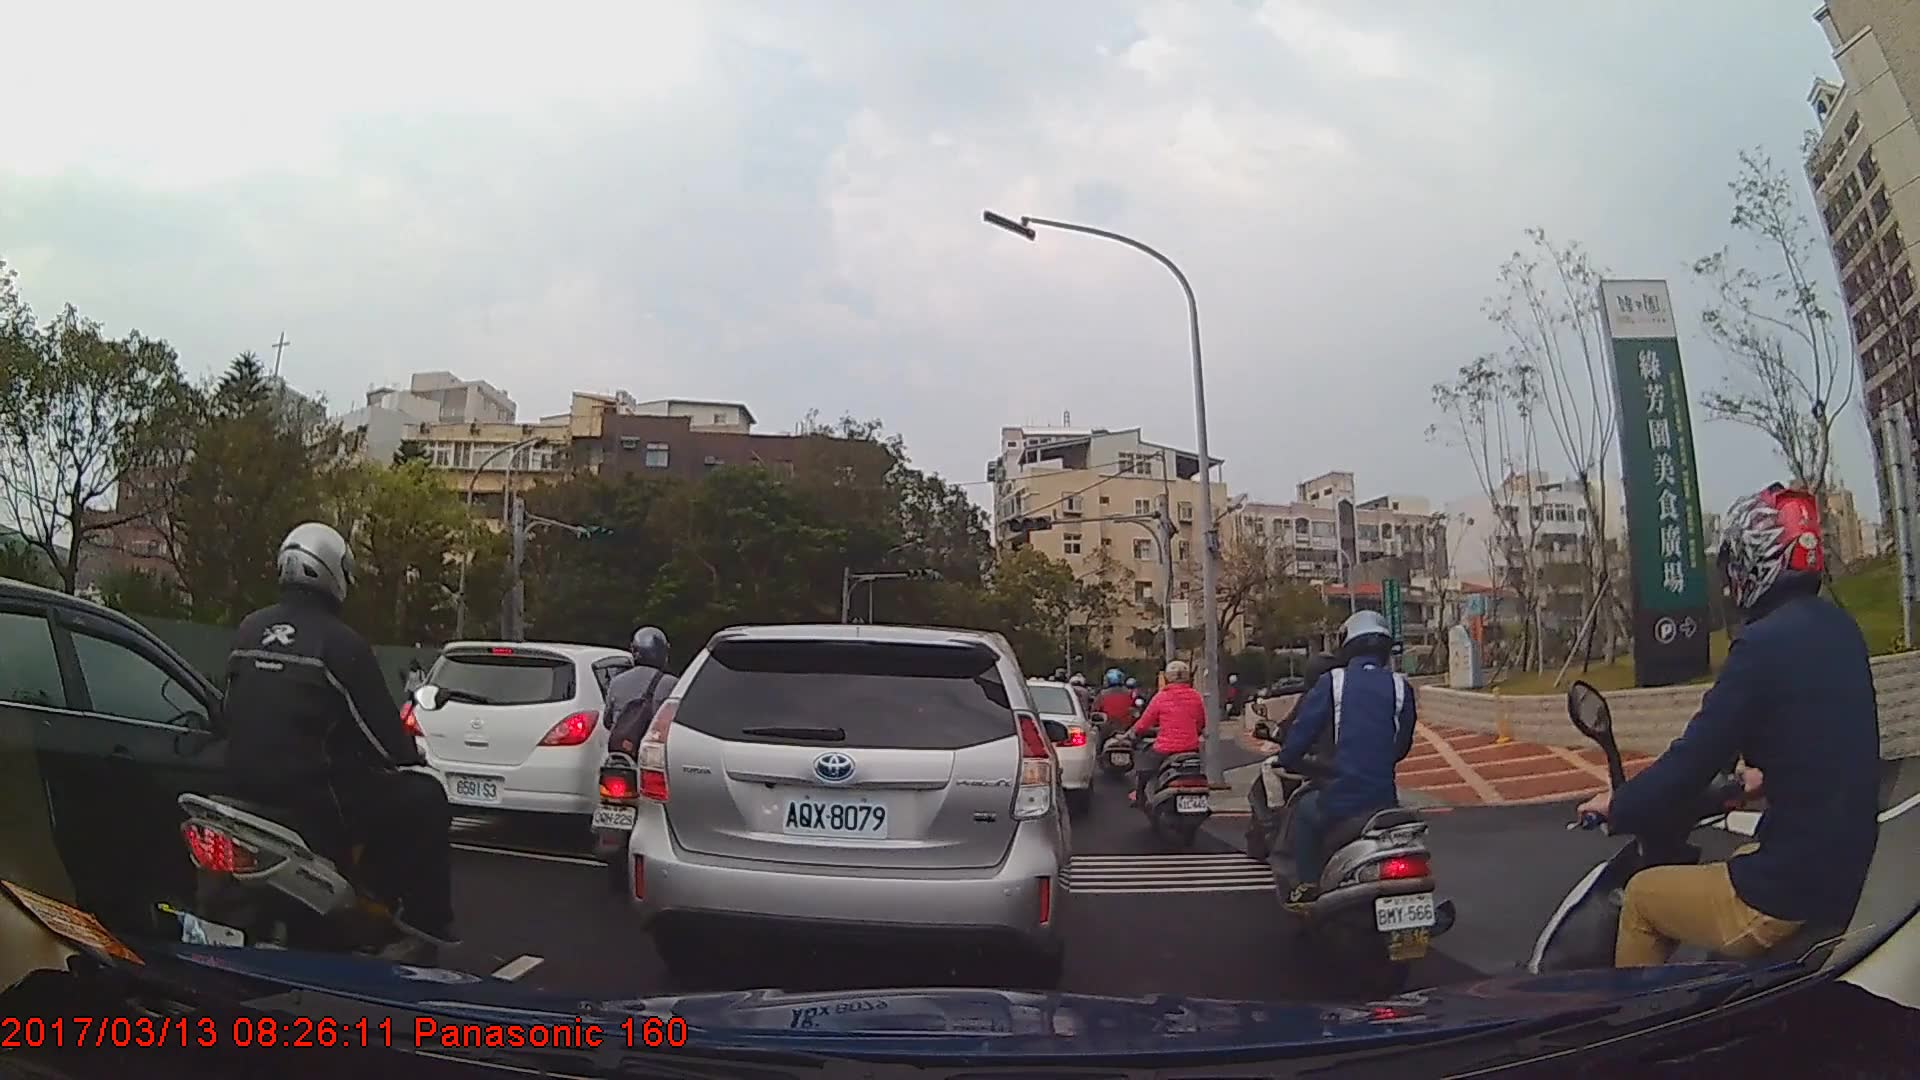rider: (1525, 482, 1920, 1080), (180, 521, 460, 1017), (1256, 609, 1447, 1004), (590, 626, 700, 891), (1138, 663, 1211, 853), (1091, 667, 1142, 780)
vehicle: (624, 624, 1072, 981), (0, 573, 360, 942), (396, 635, 669, 850), (991, 679, 1097, 805)
